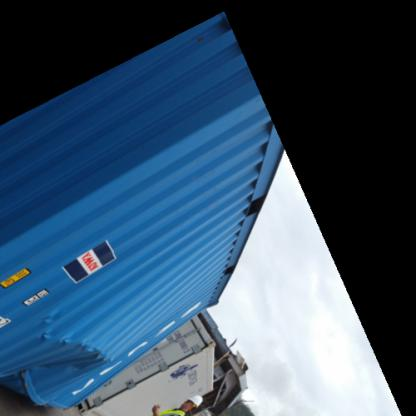Damage: (3, 298, 136, 396)
